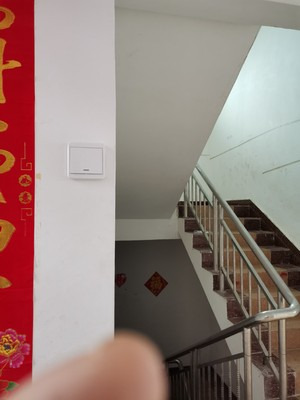switch: (66, 145, 104, 179)
